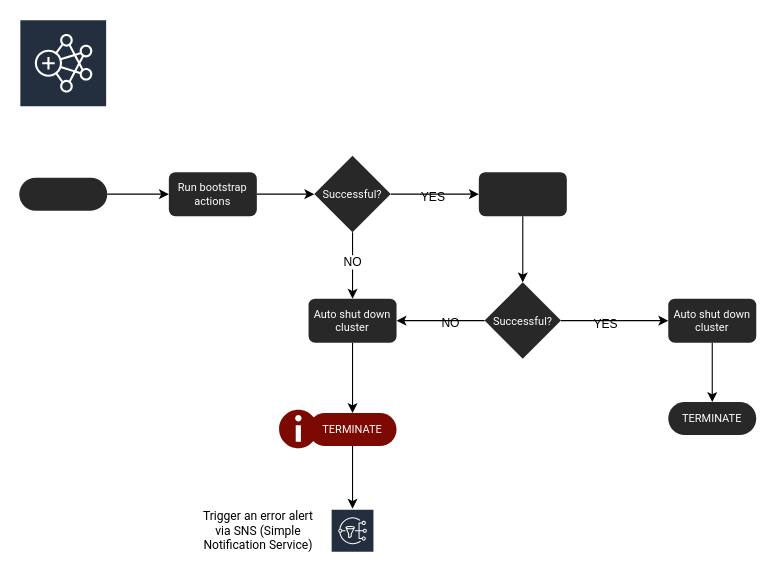
The diagram is 776 pixels wide and 572 high, and some of its shapes have lost their labels. Here are the shapes that lost their labels. From the top down, the centre of each, then its label:
At (62,73): "Amazon EMR".
At (63,193): "Launch".
At (522,194): "Run programs".
